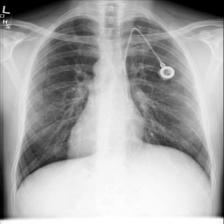normal: (13, 13, 214, 191)
